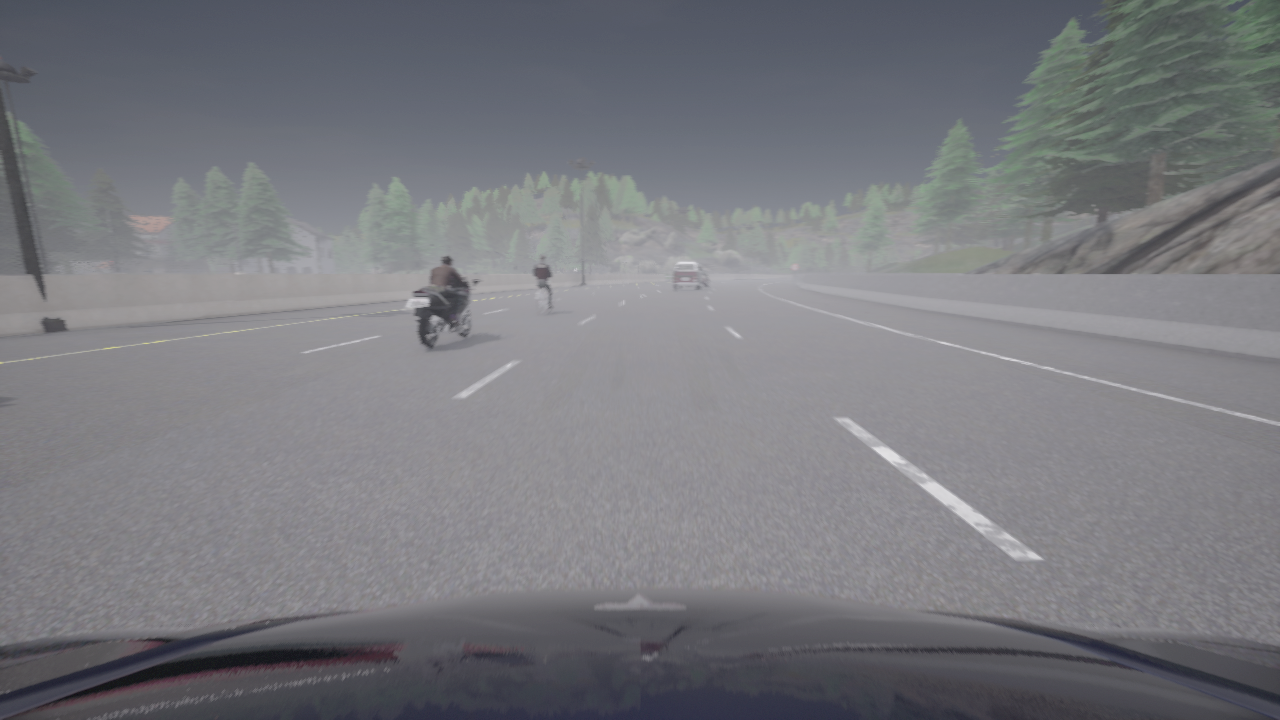cyclist: (0, 588, 1279, 719), (405, 277, 481, 349), (673, 261, 704, 290), (536, 281, 551, 314), (686, 269, 709, 287)
